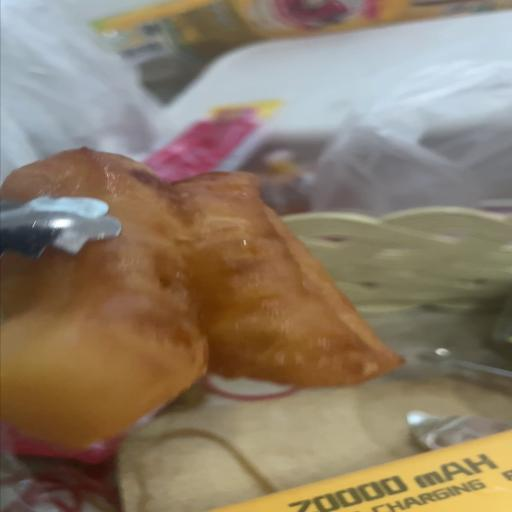street_golden_defect: (1, 155, 400, 449)
